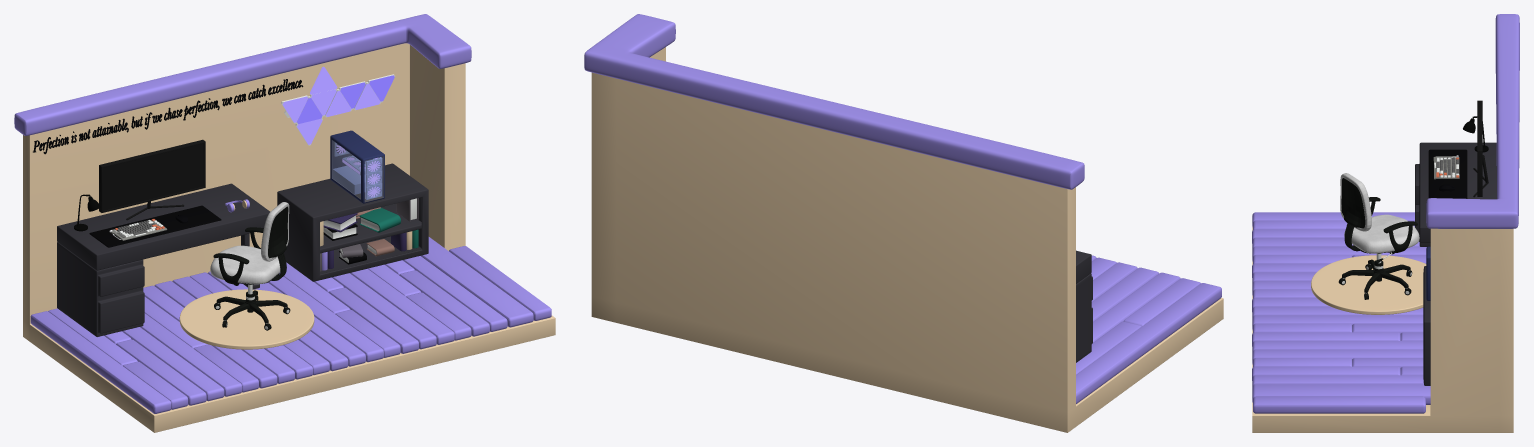
Rendered from NewRoom-transformed.glb.
3 renders of one model, left to right at view 1: azimuth 30°, elevation 25°; view 2: azimuth 150°, elevation 25°; view 3: azimuth 270°, elevation 25°, orthographic. The views are drawn at different scales.
Visible parts, largest first — view 1: WallRoof, WallLedLights.009, Office Chair_REX, PcCase; view 2: WallRoof; view 3: WallRoof, Office Chair_REX.
Boxes of the visible parts, <box> form: WallRoof: <box>14,14,555,432</box>; WallLedLights.009: <box>282,66,394,144</box>; Office Chair_REX: <box>210,202,289,284</box>; PcCase: <box>332,140,383,201</box>; WallRoof: <box>584,14,1223,432</box>; WallRoof: <box>1252,14,1519,432</box>; Office Chair_REX: <box>1340,173,1419,253</box>.
Bounding box in the file's own units: 22.18 × 11.51 × 12.55.
8 materials, 8 textured.
